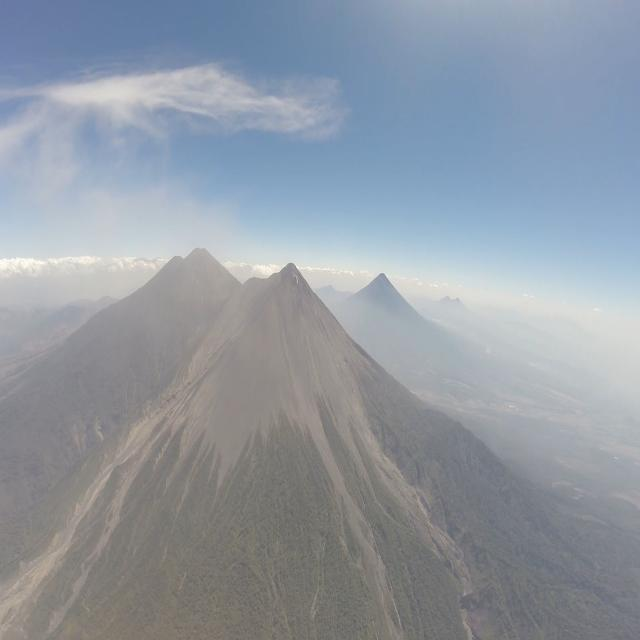Summit: (268, 260, 308, 284)
